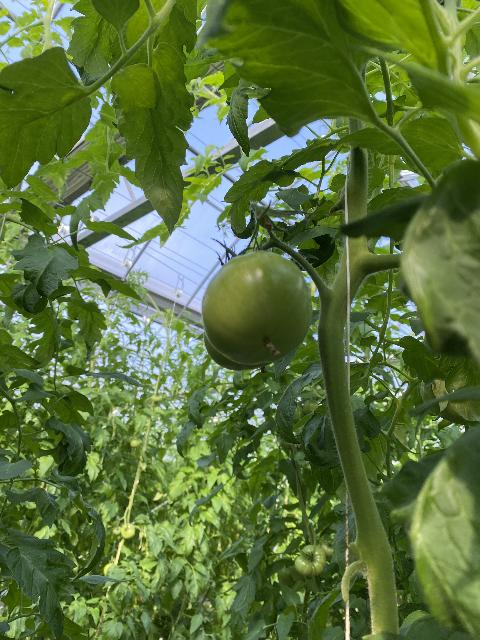b_green: (200, 250, 312, 366)
